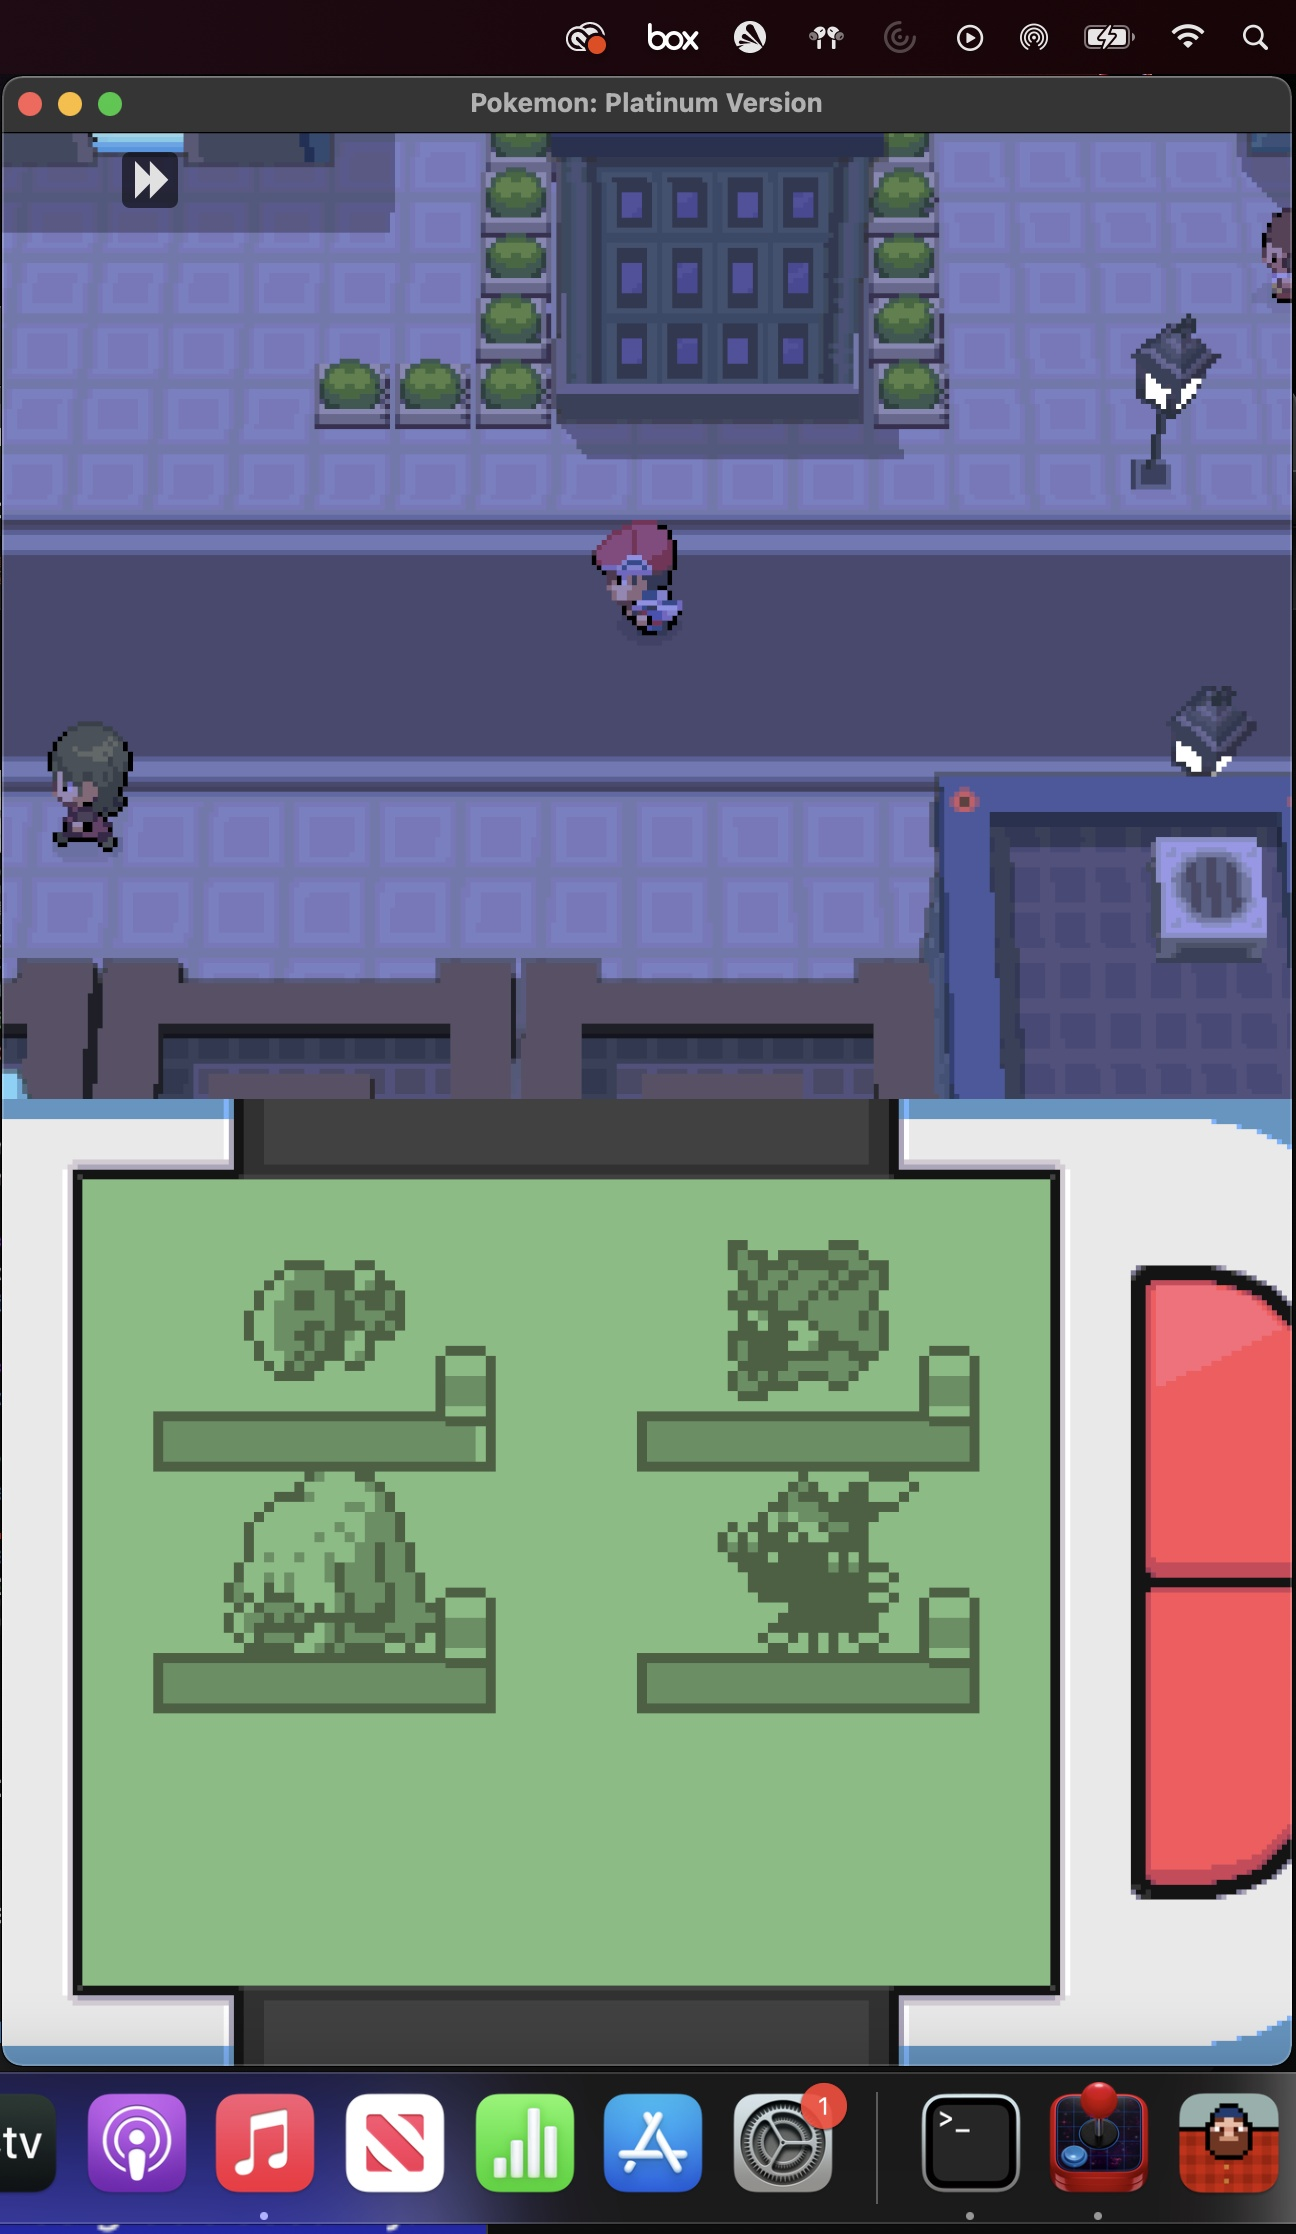player: (587, 519, 687, 641)
